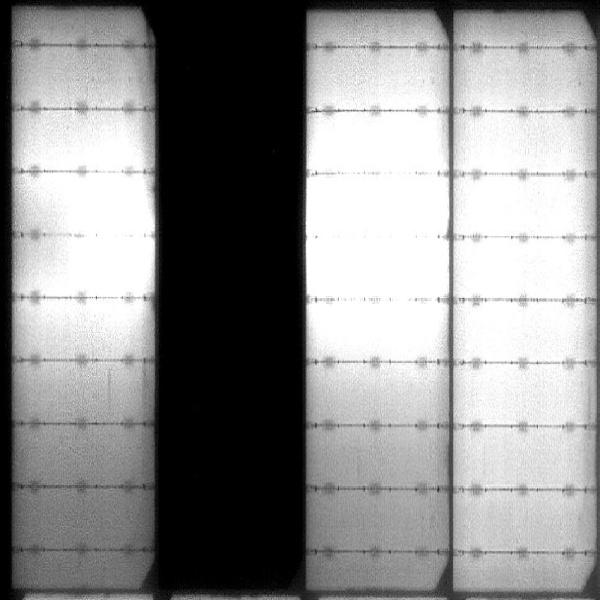hot_spot: (309, 234, 440, 292), (309, 178, 441, 230), (322, 115, 439, 170), (453, 246, 577, 290), (324, 304, 435, 346), (66, 240, 149, 296), (62, 176, 142, 228), (465, 189, 559, 228), (466, 311, 559, 339), (68, 147, 132, 164)
no_electricity: (154, 7, 300, 589)
